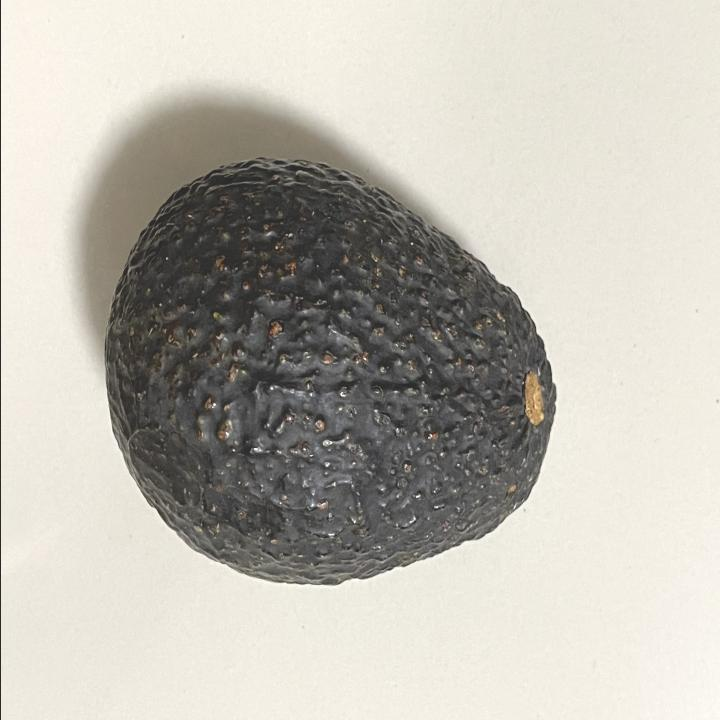Level2: (99, 148, 568, 594)
